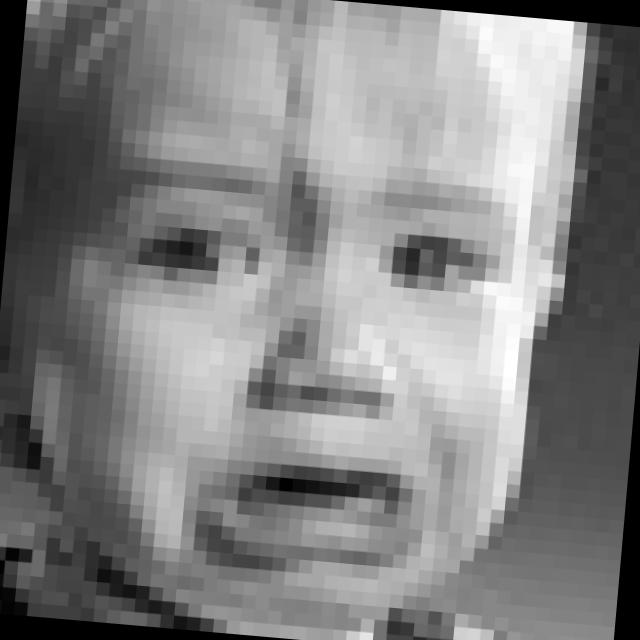sad: (56, 111, 525, 600)
